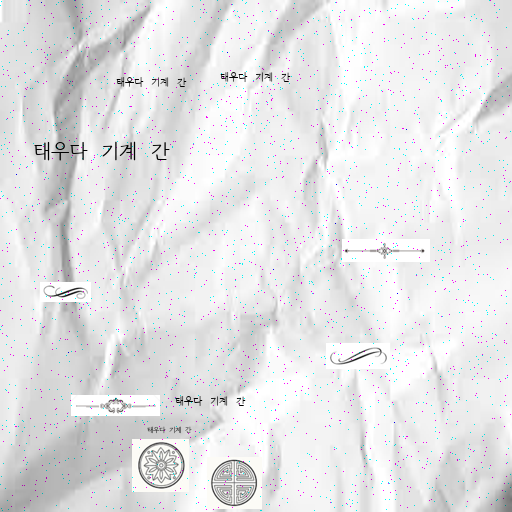text: (33, 141, 173, 161), (175, 396, 245, 406), (220, 72, 290, 82), (116, 77, 186, 87), (147, 426, 196, 433)
